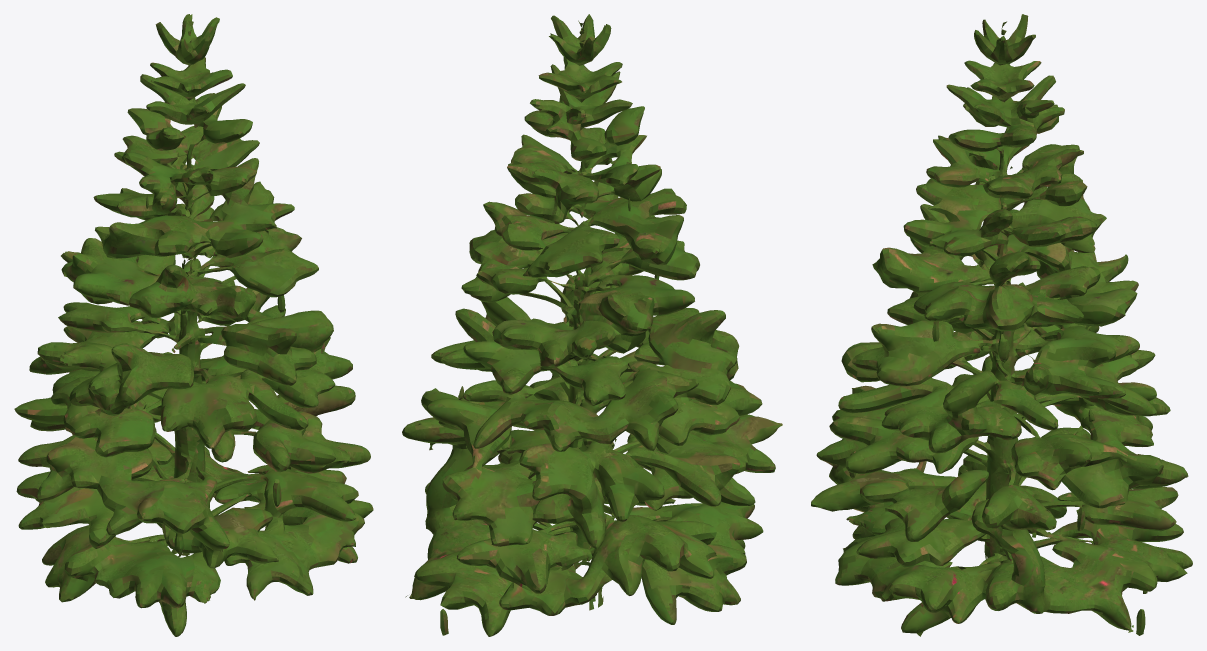
File: veg_conifer_spruce_01.obj
The picture shows the model from 3 angles, left to right: view 1: azimuth 30°, elevation 25°; view 2: azimuth 150°, elevation 25°; view 3: azimuth 270°, elevation 25°; orthographic projection. The views are drawn at different scales.
Parts seen in each view (by area): view 1: veg_conifer_spruce_01; view 2: veg_conifer_spruce_01; view 3: veg_conifer_spruce_01.
Part boxes in pixels (<box>): veg_conifer_spruce_01: <box>14,14,373,636</box>; veg_conifer_spruce_01: <box>402,14,782,636</box>; veg_conifer_spruce_01: <box>811,14,1192,636</box>.
Bounding box in the file's own units: 10.97 × 18.46 × 11.
1 material, 1 textured.
